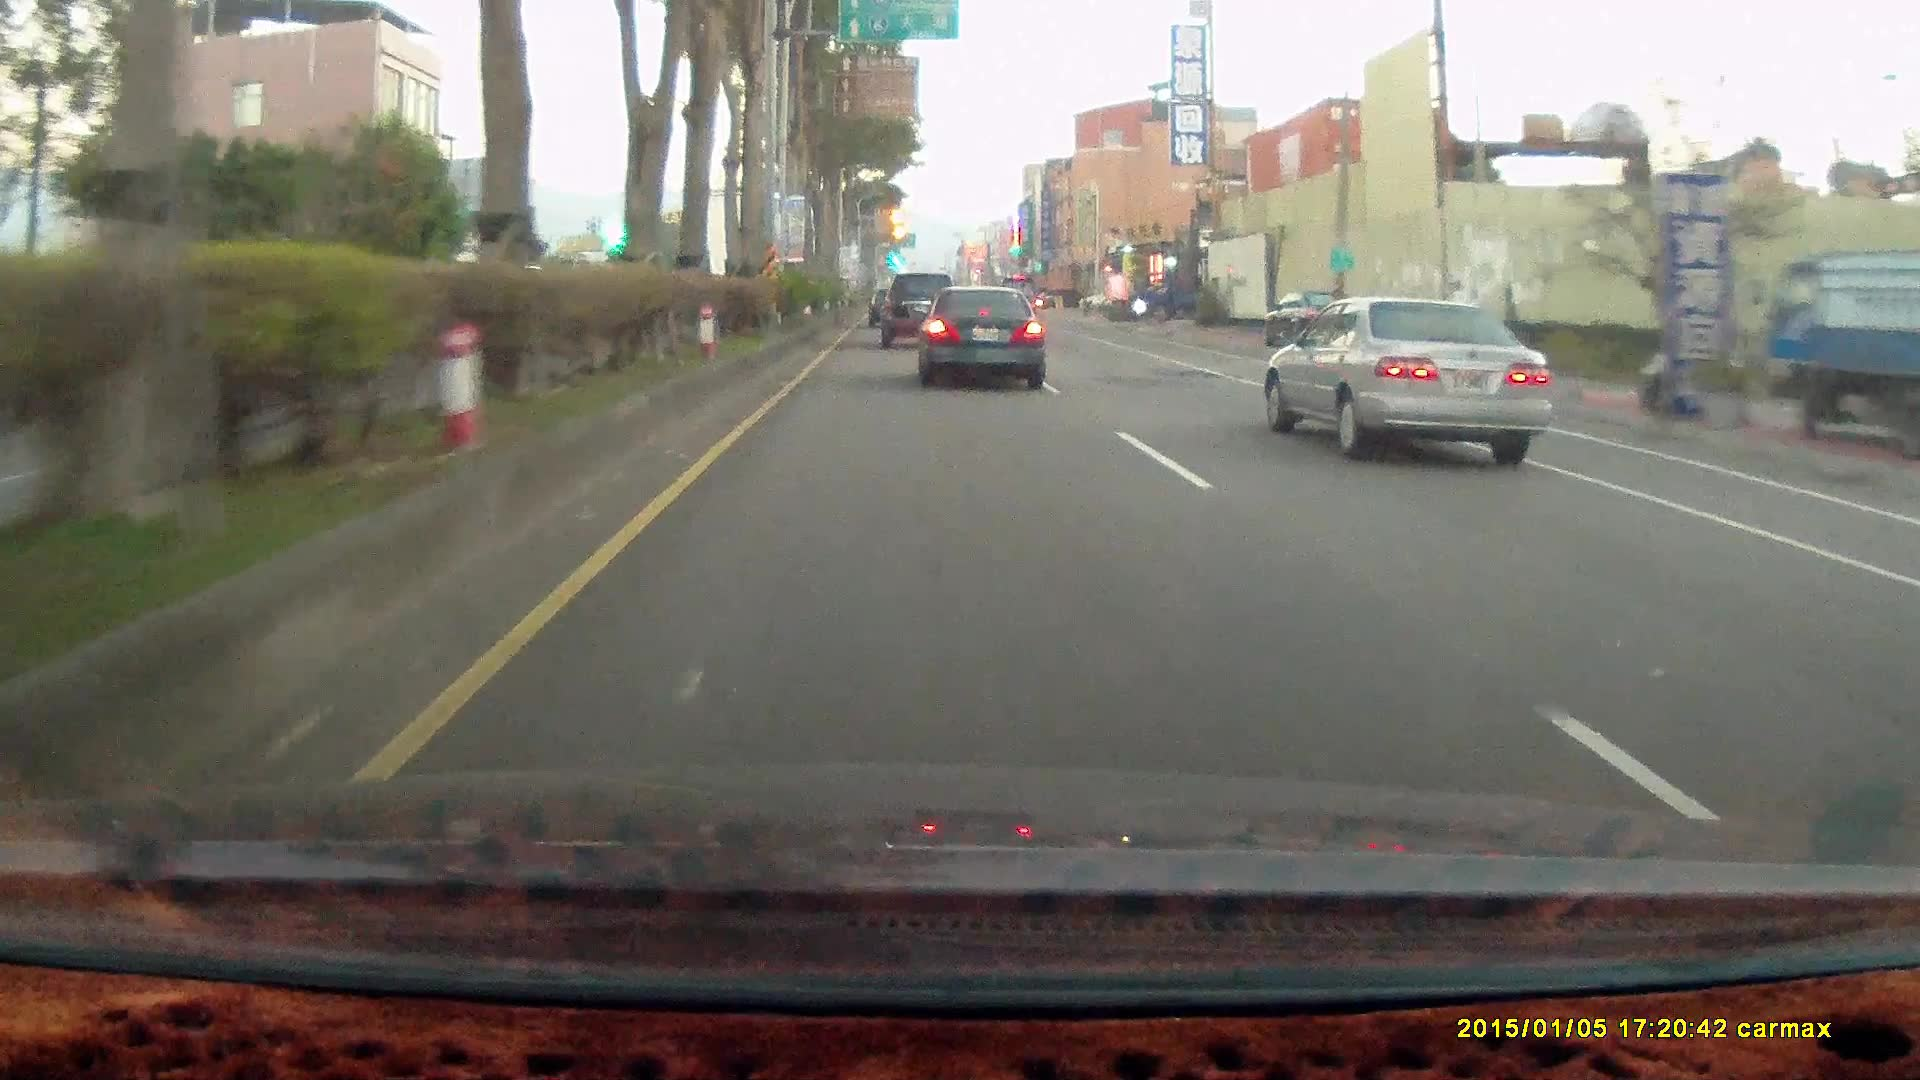vehicle: (1273, 294, 1567, 465), (1262, 294, 1552, 465), (1760, 255, 1919, 456), (913, 281, 1044, 385), (919, 285, 1048, 389), (881, 272, 961, 349), (880, 270, 959, 347), (1133, 272, 1215, 322), (1044, 286, 1085, 307)
